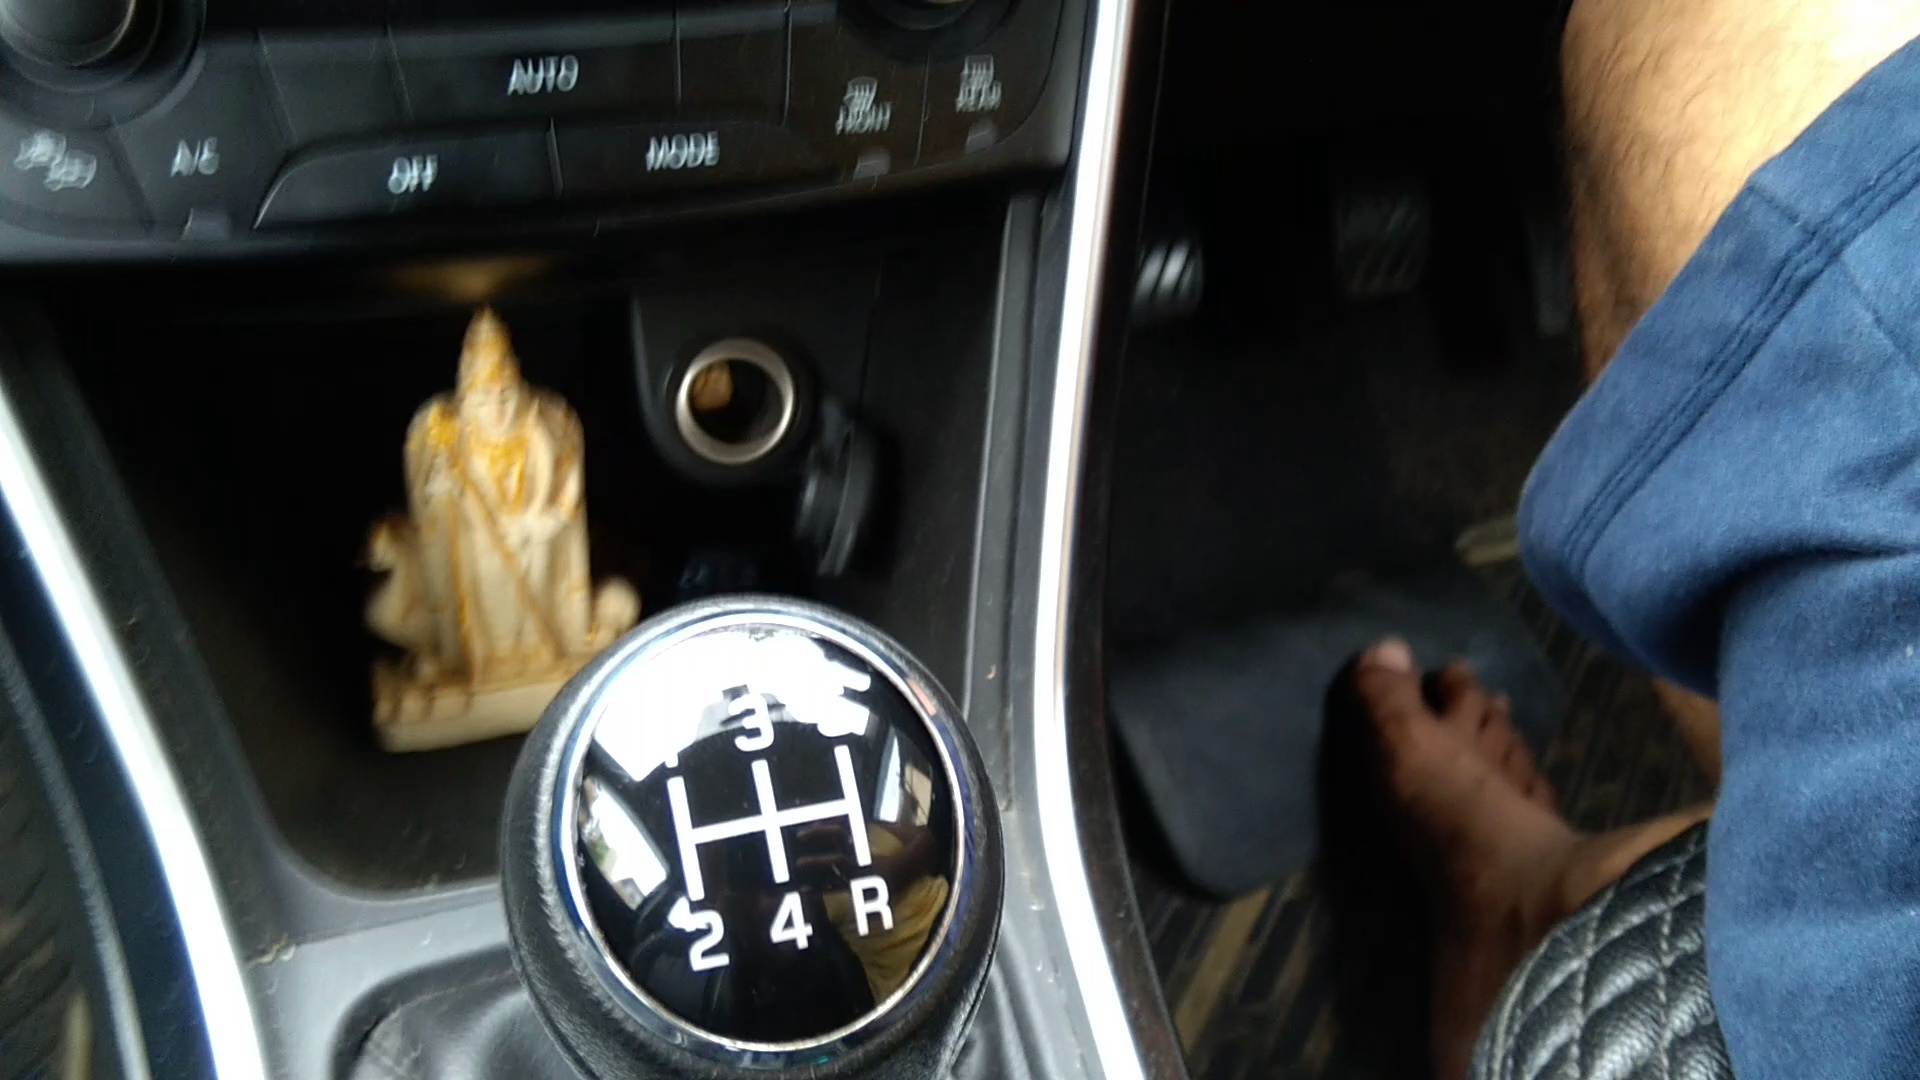manual_gear: (509, 605, 1001, 1080)
